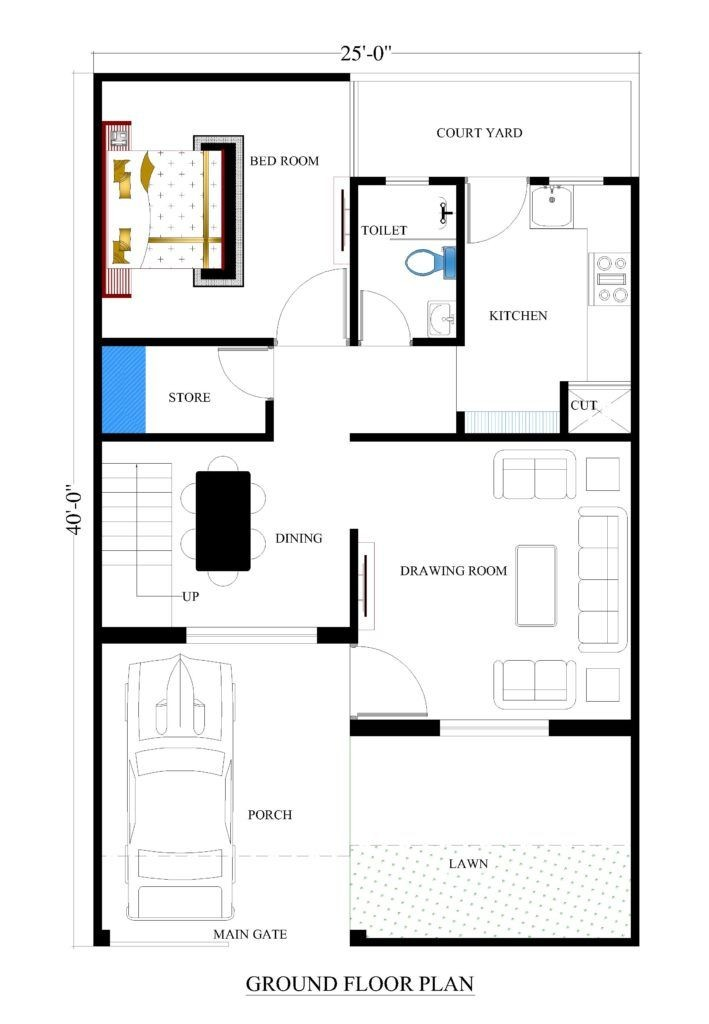door: (273, 241, 358, 357), (461, 167, 528, 264), (361, 639, 425, 716), (222, 339, 289, 400), (351, 291, 419, 349)
room: (351, 430, 648, 746), (350, 171, 653, 444), (100, 67, 359, 353), (95, 422, 355, 646)
wall: (622, 169, 647, 949), (89, 66, 109, 947), (339, 930, 636, 955), (348, 430, 634, 452), (84, 66, 355, 89), (347, 166, 372, 344), (445, 171, 470, 346), (337, 521, 370, 652), (545, 714, 650, 744), (90, 333, 280, 349), (348, 717, 458, 742), (105, 424, 287, 439), (95, 625, 197, 650), (555, 377, 578, 432)
window: (436, 692, 550, 750), (181, 610, 320, 653), (539, 167, 611, 202), (390, 171, 436, 191)
